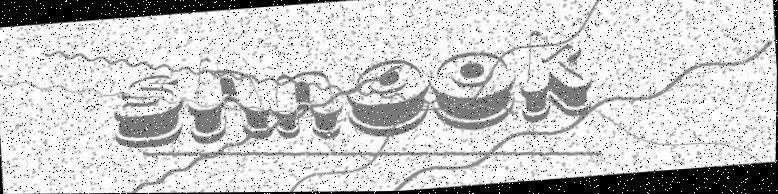h: (185, 55, 273, 144)
k: (517, 28, 596, 122)
n: (273, 70, 345, 143)
o: (427, 49, 519, 134), (345, 58, 430, 139)
s: (112, 72, 186, 148)
